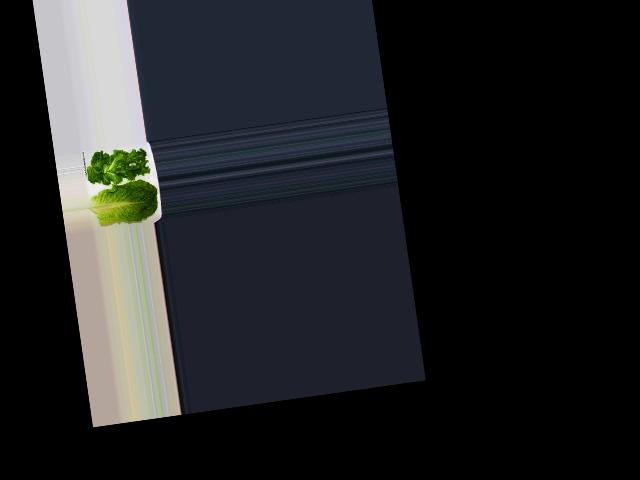lettuce: (85, 140, 151, 186)
